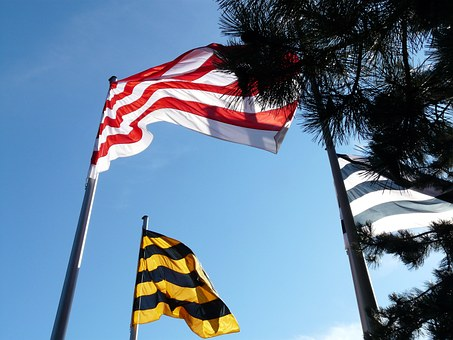Flag: (87, 43, 307, 173), (131, 230, 241, 337), (333, 152, 453, 239)
